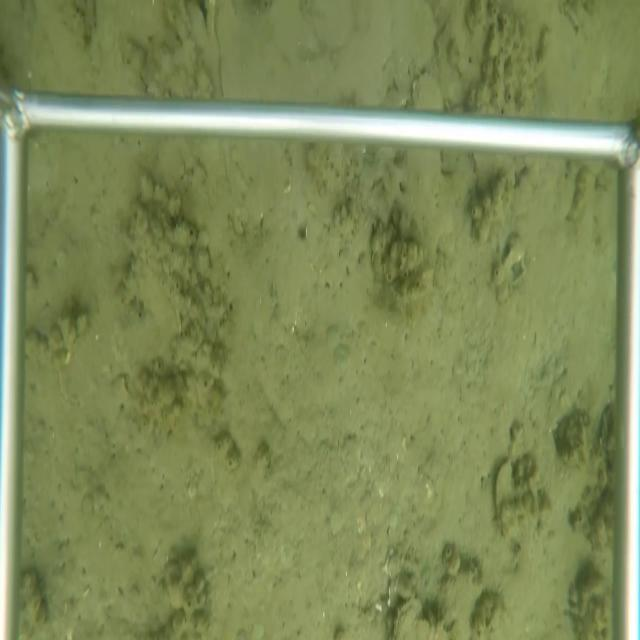Oyster-Closed: (389, 596, 424, 639)
Oyster-Indeterminate: (494, 452, 516, 525)
Oyster-Open: (186, 1, 214, 46)
